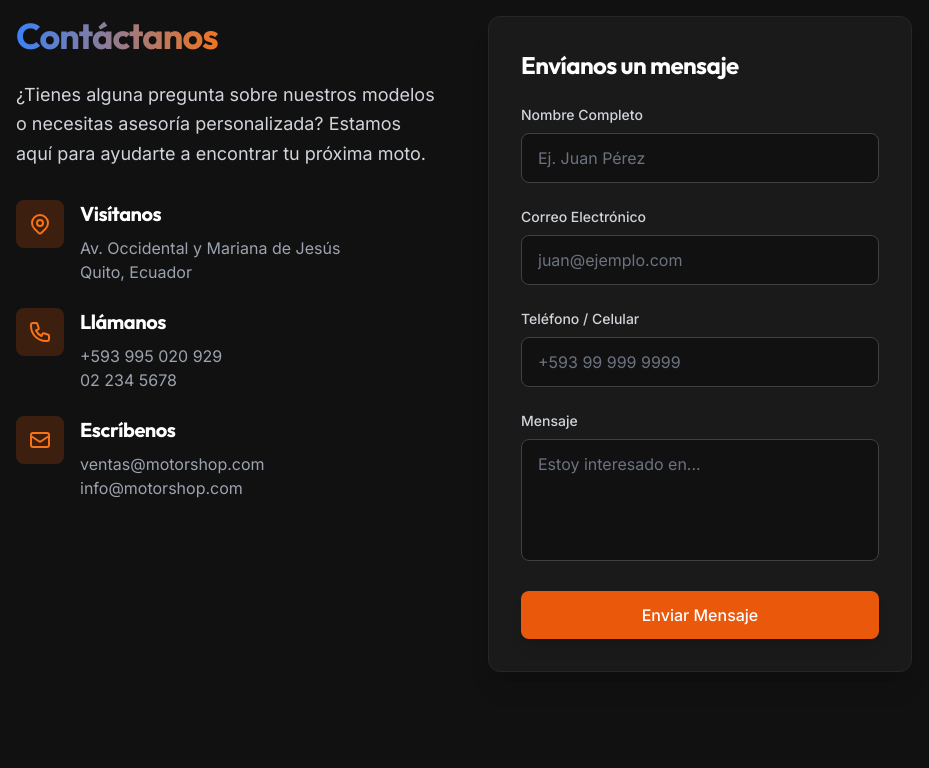
Scenario: Contact Page › displays error message on submission failure
In the field labelled "Nombre Completo": (700, 158) 521,133 -> 879,183, type "Test User"
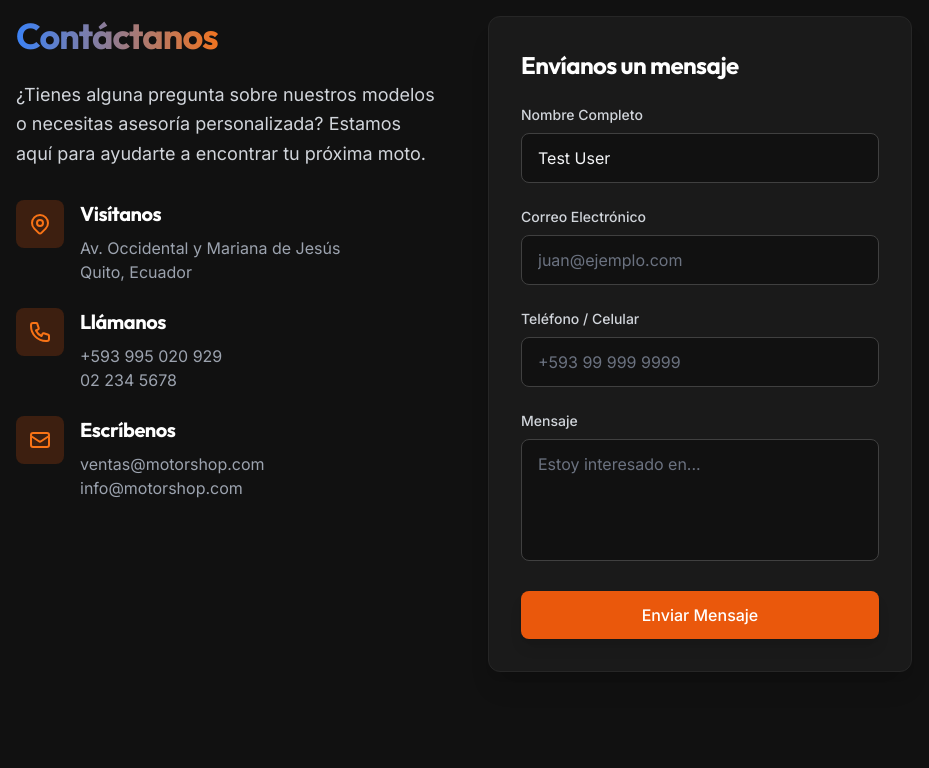
In the field labelled "Correo Electrónico": (700, 260) 521,235 -> 879,285, type "test@example.com"
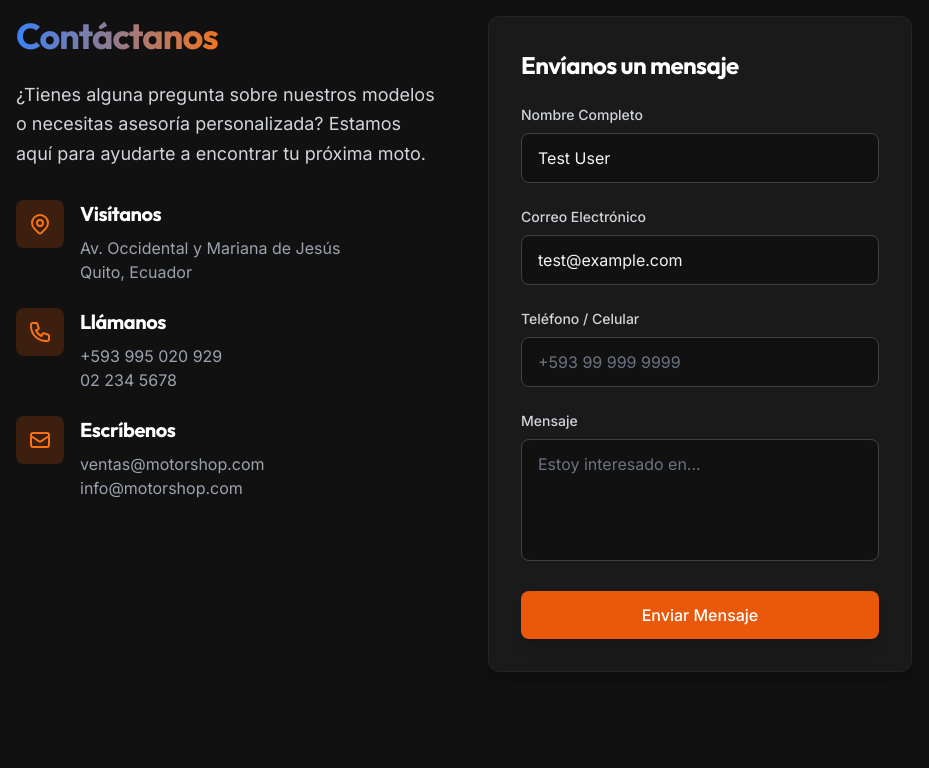
In the field labelled "Teléfono / Celular": (700, 362) 521,337 -> 879,387, type "1234567890"
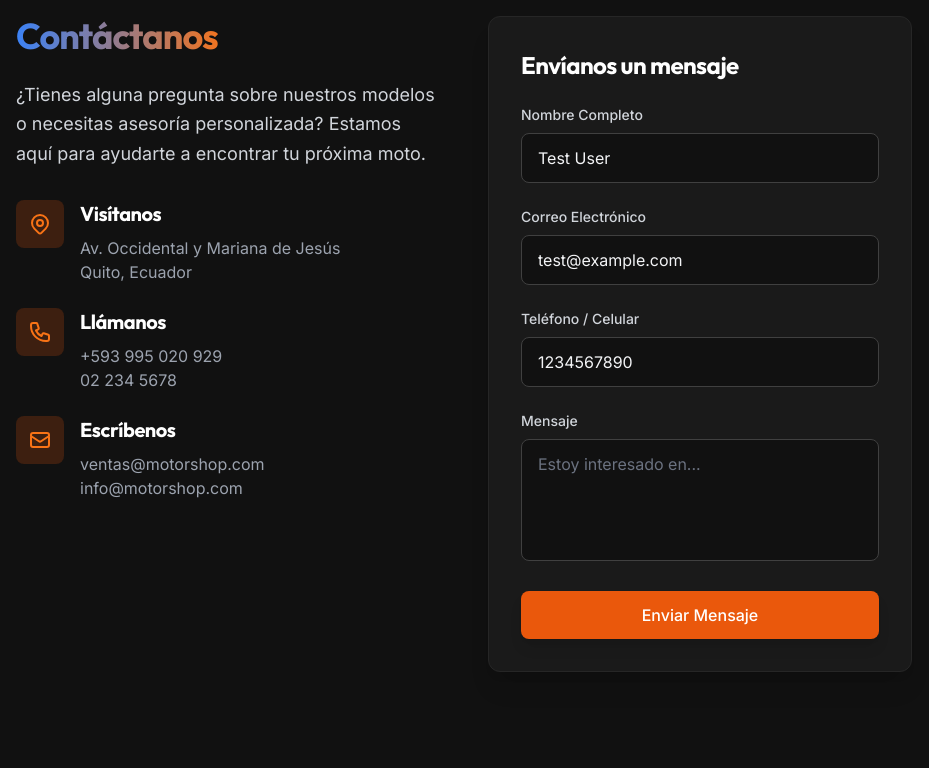
In the text box labelled "Mensaje": (700, 500) 521,439 -> 879,561, type "Hello"
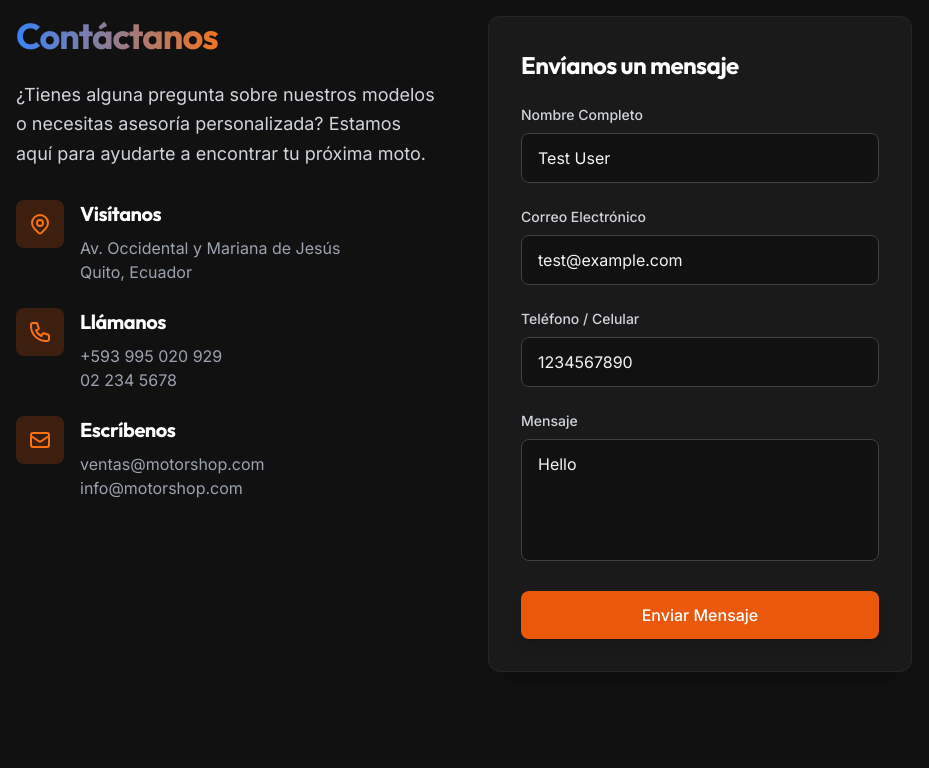
Click the button "Enviar Mensaje": click(700, 615) 521,591 -> 879,639
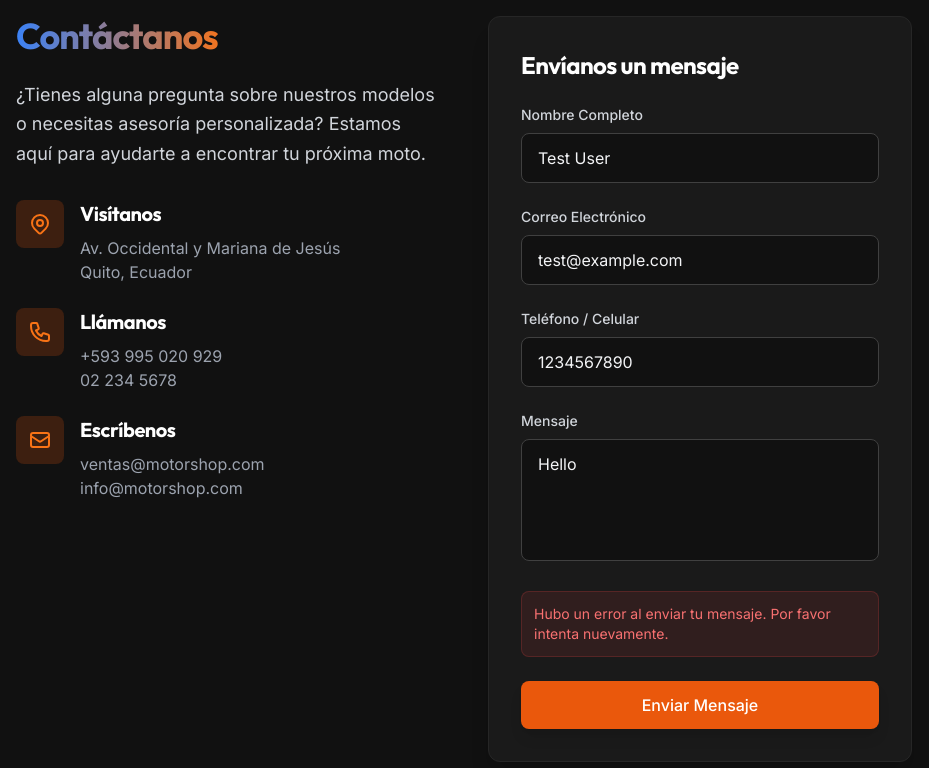
Check: the text "Hubo un error al enviar tu mensaje" is shown, box 534,605 -> 831,642
